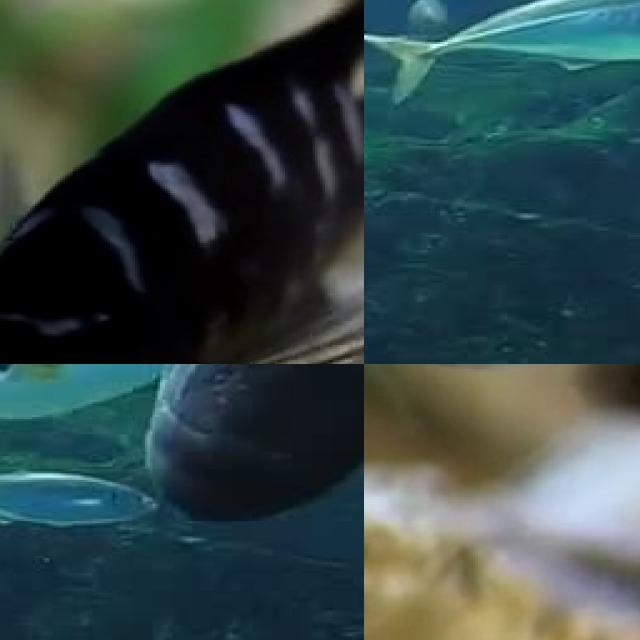fish: (0, 0, 364, 364), (0, 453, 162, 538)
